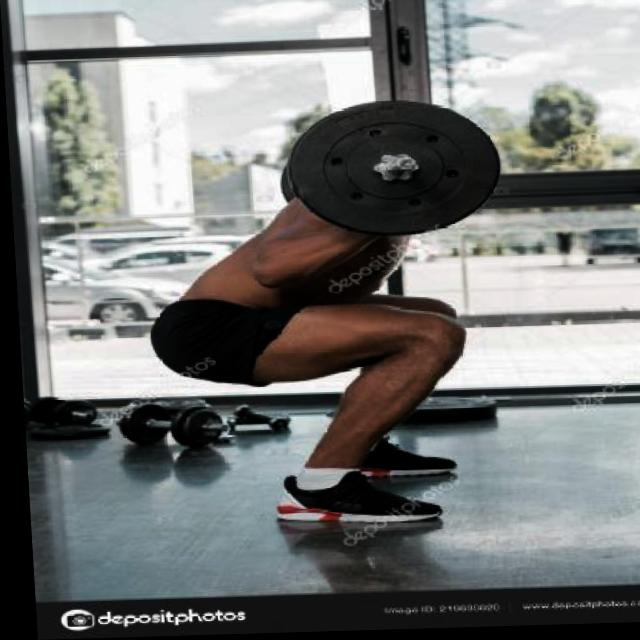barbell: (275, 98, 508, 248)
